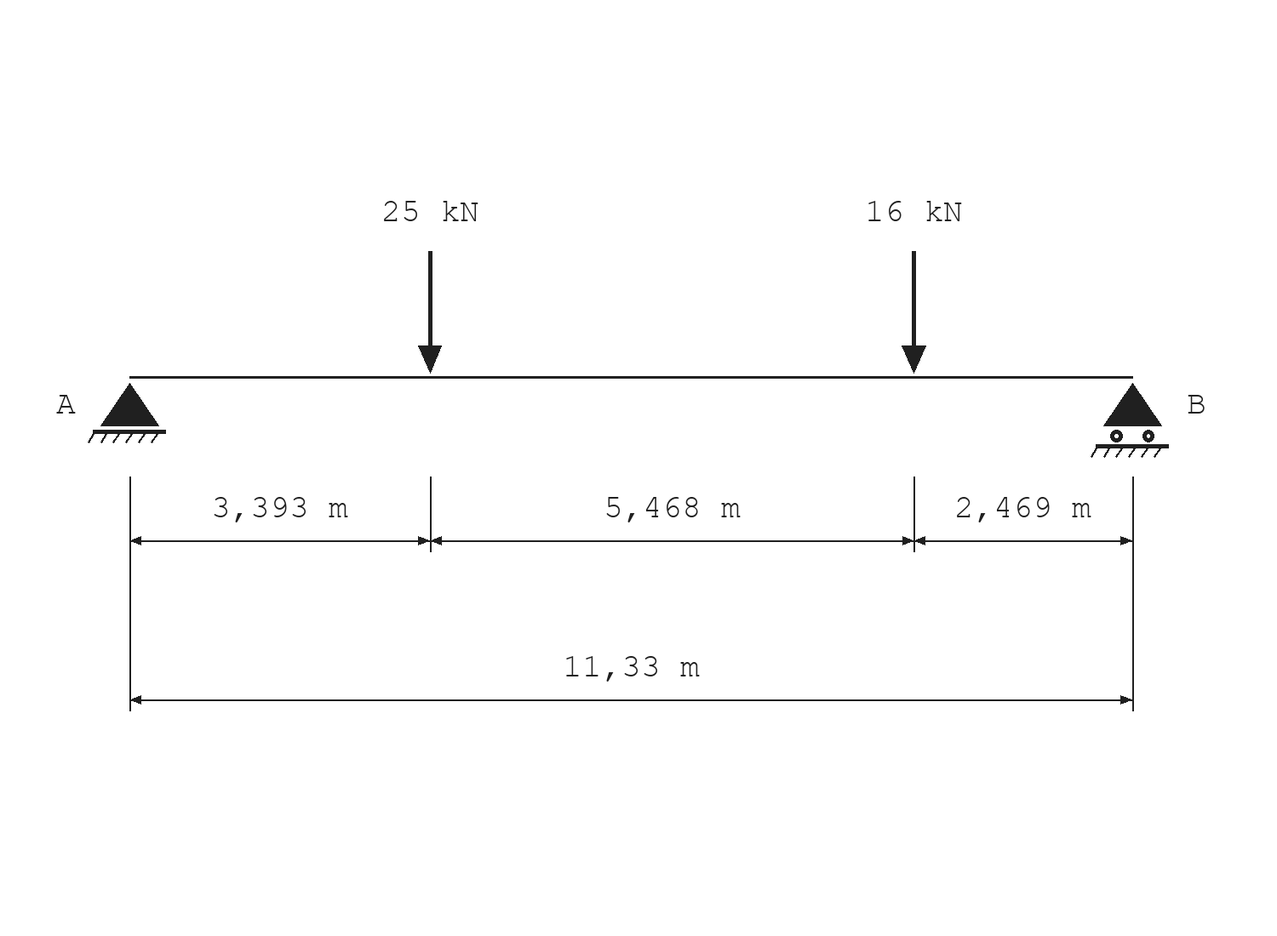pin_support: (88, 383, 166, 443)
point_load: (418, 251, 442, 374), (902, 251, 926, 374)
roller_support: (1091, 383, 1169, 458)
